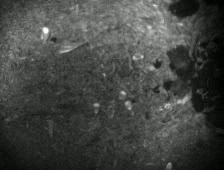corn: (37, 25, 54, 45), (90, 100, 102, 115), (116, 87, 127, 102), (122, 98, 133, 113), (162, 159, 175, 170)
